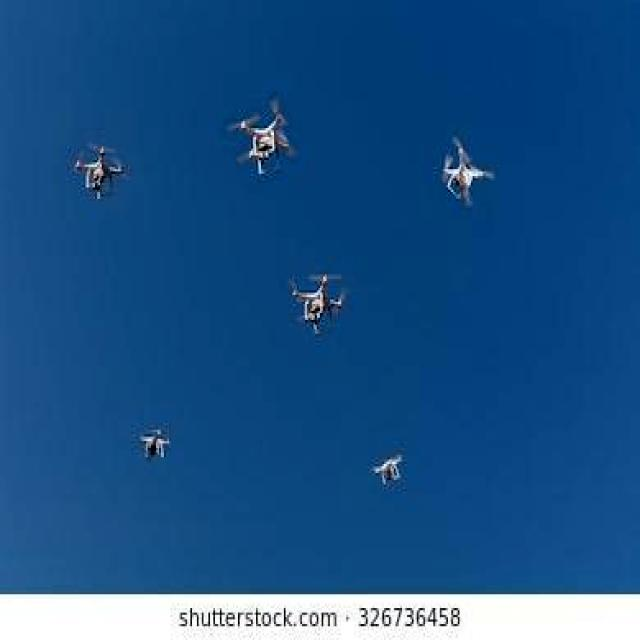drone: (237, 100, 295, 172), (286, 266, 346, 333), (438, 135, 492, 201), (72, 142, 128, 199), (139, 425, 170, 462), (372, 447, 403, 483)
